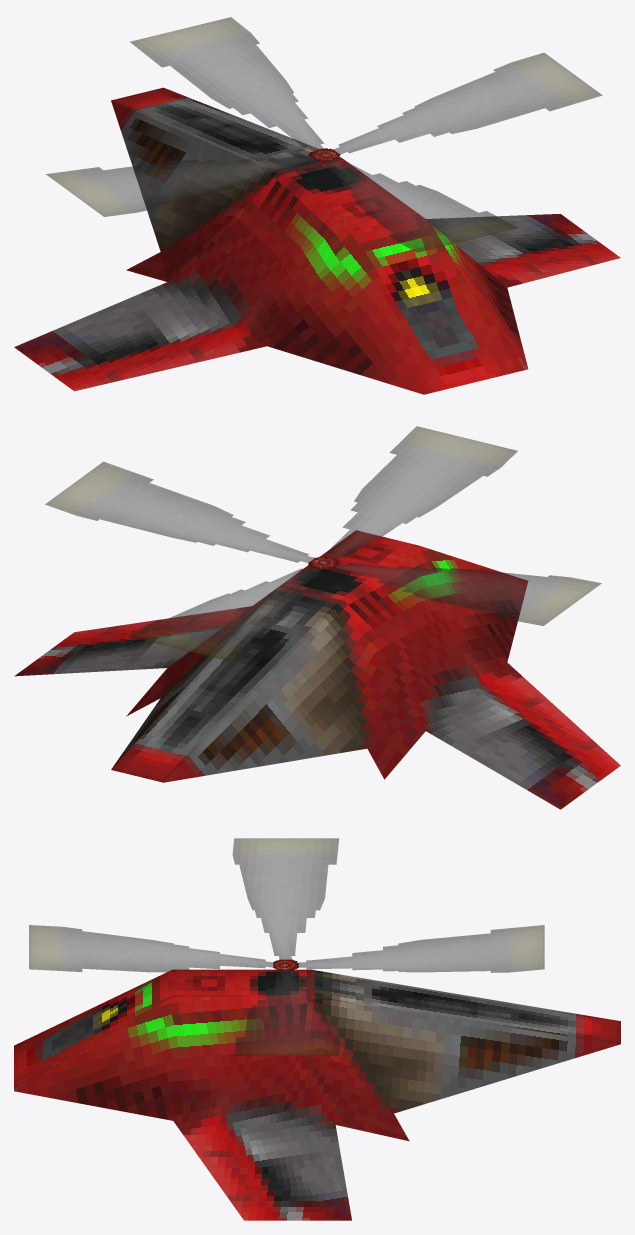
The picture shows the model from 3 angles, top to bottom: view 1: azimuth 30°, elevation 25°; view 2: azimuth 150°, elevation 25°; view 3: azimuth 270°, elevation 25°; orthographic projection. The views are drawn at different scales.
Parts seen in each view (by area): view 1: Mp_obj_022; view 2: Mp_obj_022; view 3: Mp_obj_022.
Boxes of the visible parts, <box> form: Mp_obj_022: <box>14,17,620,394</box>; Mp_obj_022: <box>14,426,620,809</box>; Mp_obj_022: <box>14,838,620,1220</box>.
Size of the model in its own units: 1.4 by 0.4219 by 1.5.
2 materials, 2 textured.
